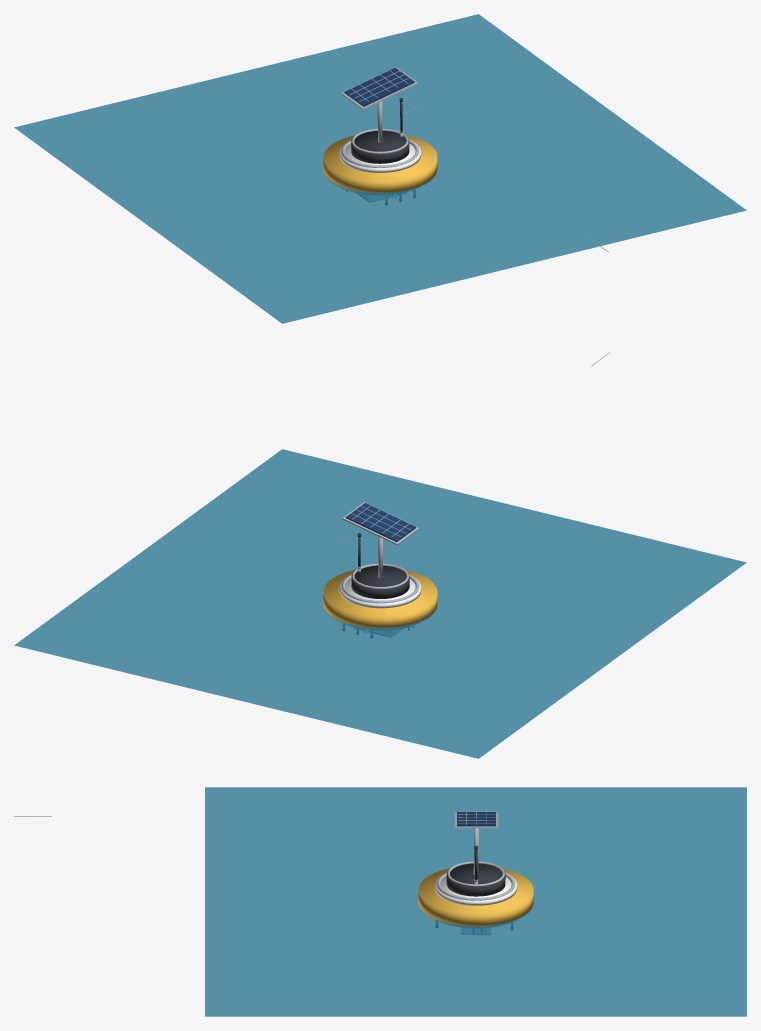
The model's file is water_device.glb.
3 views of the same model, one above another, from view 1: azimuth 30°, elevation 25°; view 2: azimuth 150°, elevation 25°; view 3: azimuth 270°, elevation 25° (orthographic).
Visible parts, largest first — view 1: ANIMATED RIVER WATER, MAIN FLOAT, ELECTRONICS HOUSING, SOLAR PANEL, UPPER DECK; view 2: ANIMATED RIVER WATER, MAIN FLOAT, ELECTRONICS HOUSING, SOLAR PANEL, UPPER DECK; view 3: ANIMATED RIVER WATER, MAIN FLOAT, ELECTRONICS HOUSING, UPPER DECK, SOLAR PANEL, DECK RIM.
Boxes of the visible parts, x1,y1,x2,y2 form: ANIMATED RIVER WATER: [14, 14, 746, 323]; MAIN FLOAT: [323, 135, 437, 193]; ELECTRONICS HOUSING: [351, 131, 409, 163]; SOLAR PANEL: [344, 67, 414, 106]; UPPER DECK: [339, 139, 420, 172]; ANIMATED RIVER WATER: [14, 449, 746, 758]; MAIN FLOAT: [323, 569, 437, 628]; ELECTRONICS HOUSING: [351, 565, 409, 598]; SOLAR PANEL: [346, 503, 416, 542]; UPPER DECK: [340, 574, 421, 608]; ANIMATED RIVER WATER: [205, 787, 746, 1016]; MAIN FLOAT: [418, 868, 533, 926]; ELECTRONICS HOUSING: [446, 863, 505, 896]; UPPER DECK: [435, 872, 517, 905]; SOLAR PANEL: [457, 812, 495, 826]; DECK RIM: [437, 873, 514, 900].
Bounding box in the file's own units: 24 × 5.56 × 32.47.
